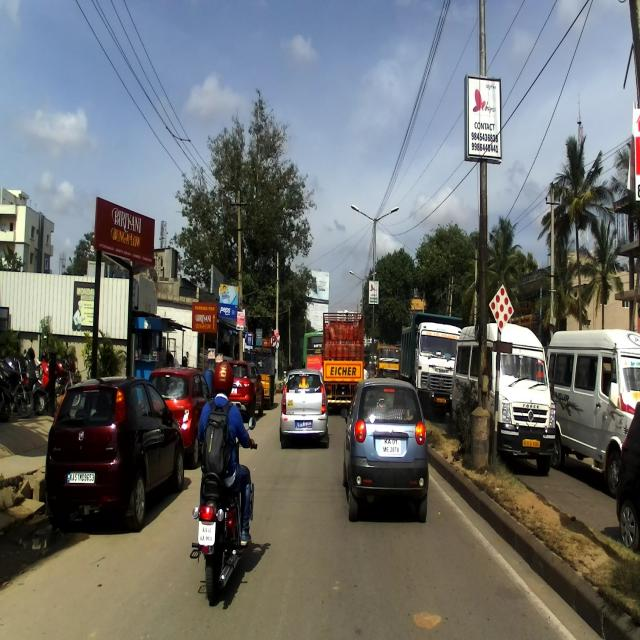Car_Chevrolet: (341, 378, 428, 522)
Car_Fiat: (44, 376, 184, 533)
Car_Maruti-Suzuki: (224, 353, 262, 414)
Car_TATA: (277, 366, 332, 452)
mini-bus: (452, 320, 556, 477)
motorcycle_RoyalEnfield: (190, 415, 260, 604)
motorcycle_bajaj: (0, 341, 34, 418)
scooter: (22, 337, 48, 420)
truck: (396, 308, 459, 416), (321, 309, 365, 412)
